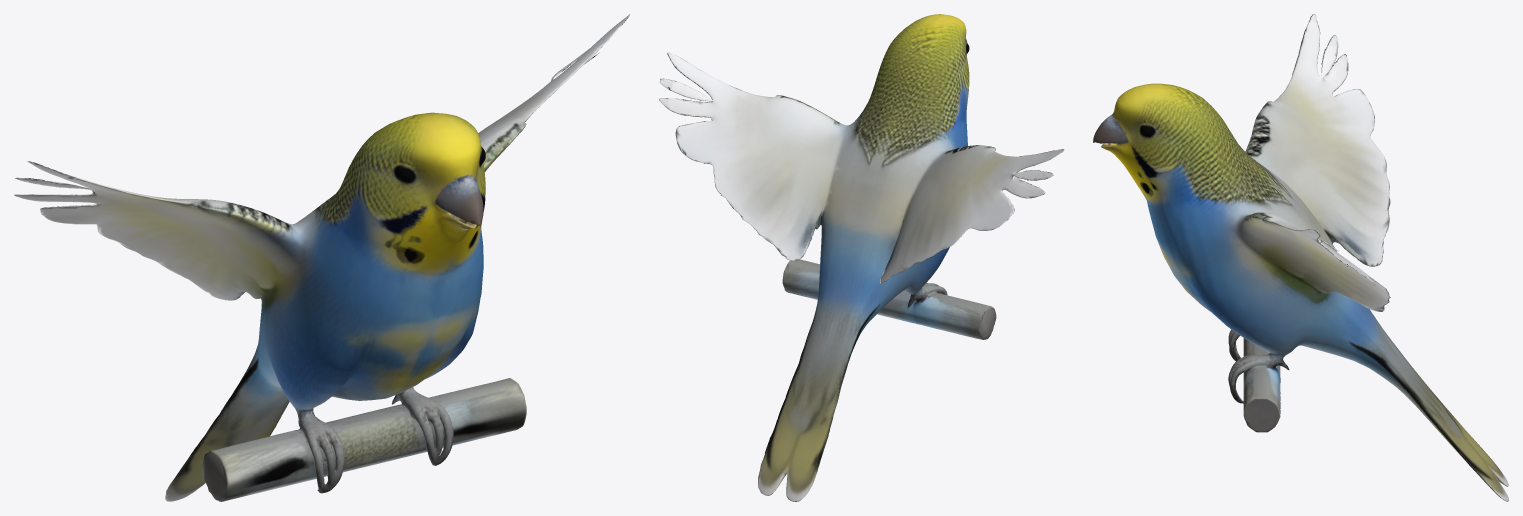
Rendered from budgerigar_perched.glb.
3 views of the same model, side by side, from view 1: azimuth 30°, elevation 25°; view 2: azimuth 150°, elevation 25°; view 3: azimuth 270°, elevation 25° (orthographic). The views are drawn at different scales.
Parts seen in each view (by area): view 1: model; view 2: model; view 3: model.
Part boxes in pixels (<box>): model: <box>14,14,630,501</box>; model: <box>659,14,1064,501</box>; model: <box>1093,14,1508,501</box>.
Size of the model in its own units: 1.89 by 1.65 by 1.54.
Materials: 1 (1 with a texture image).
